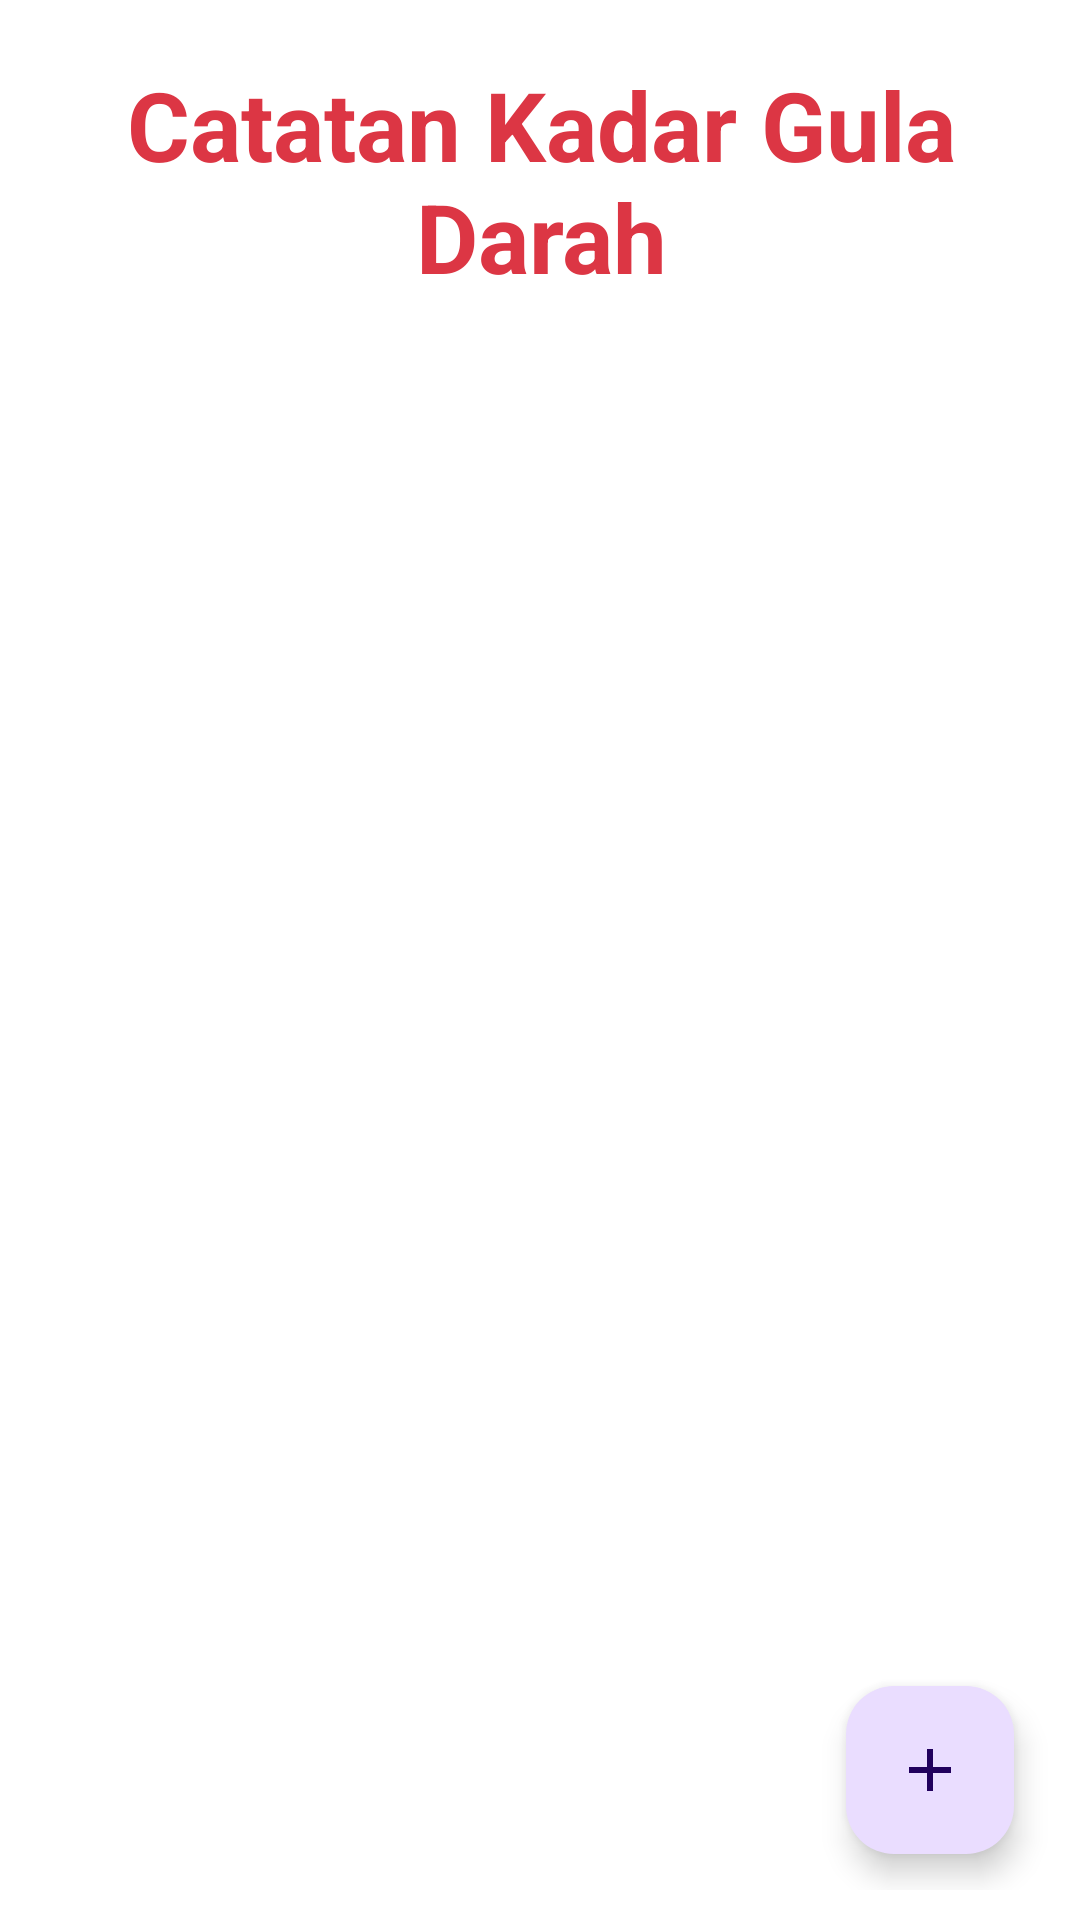

Icons on this 1080 × 1920 Android screen, each with its box as box=[x1, y1, x2, y2]:
add: box=[846, 1686, 1014, 1854]
